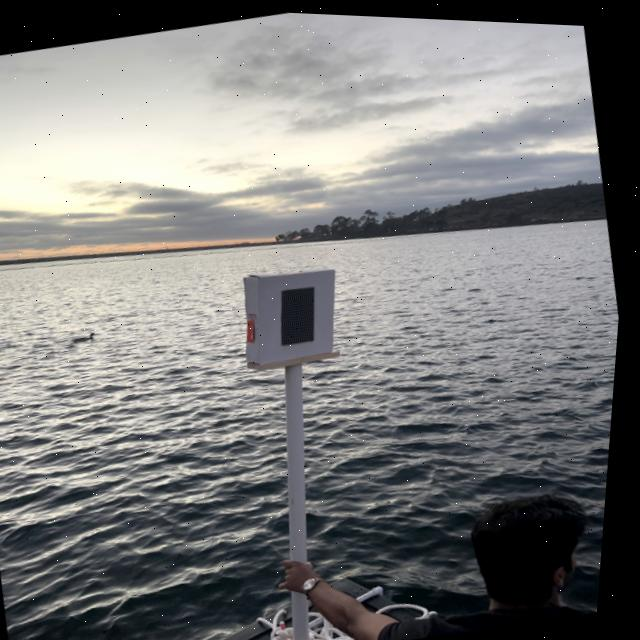led: (253, 264, 348, 370)
